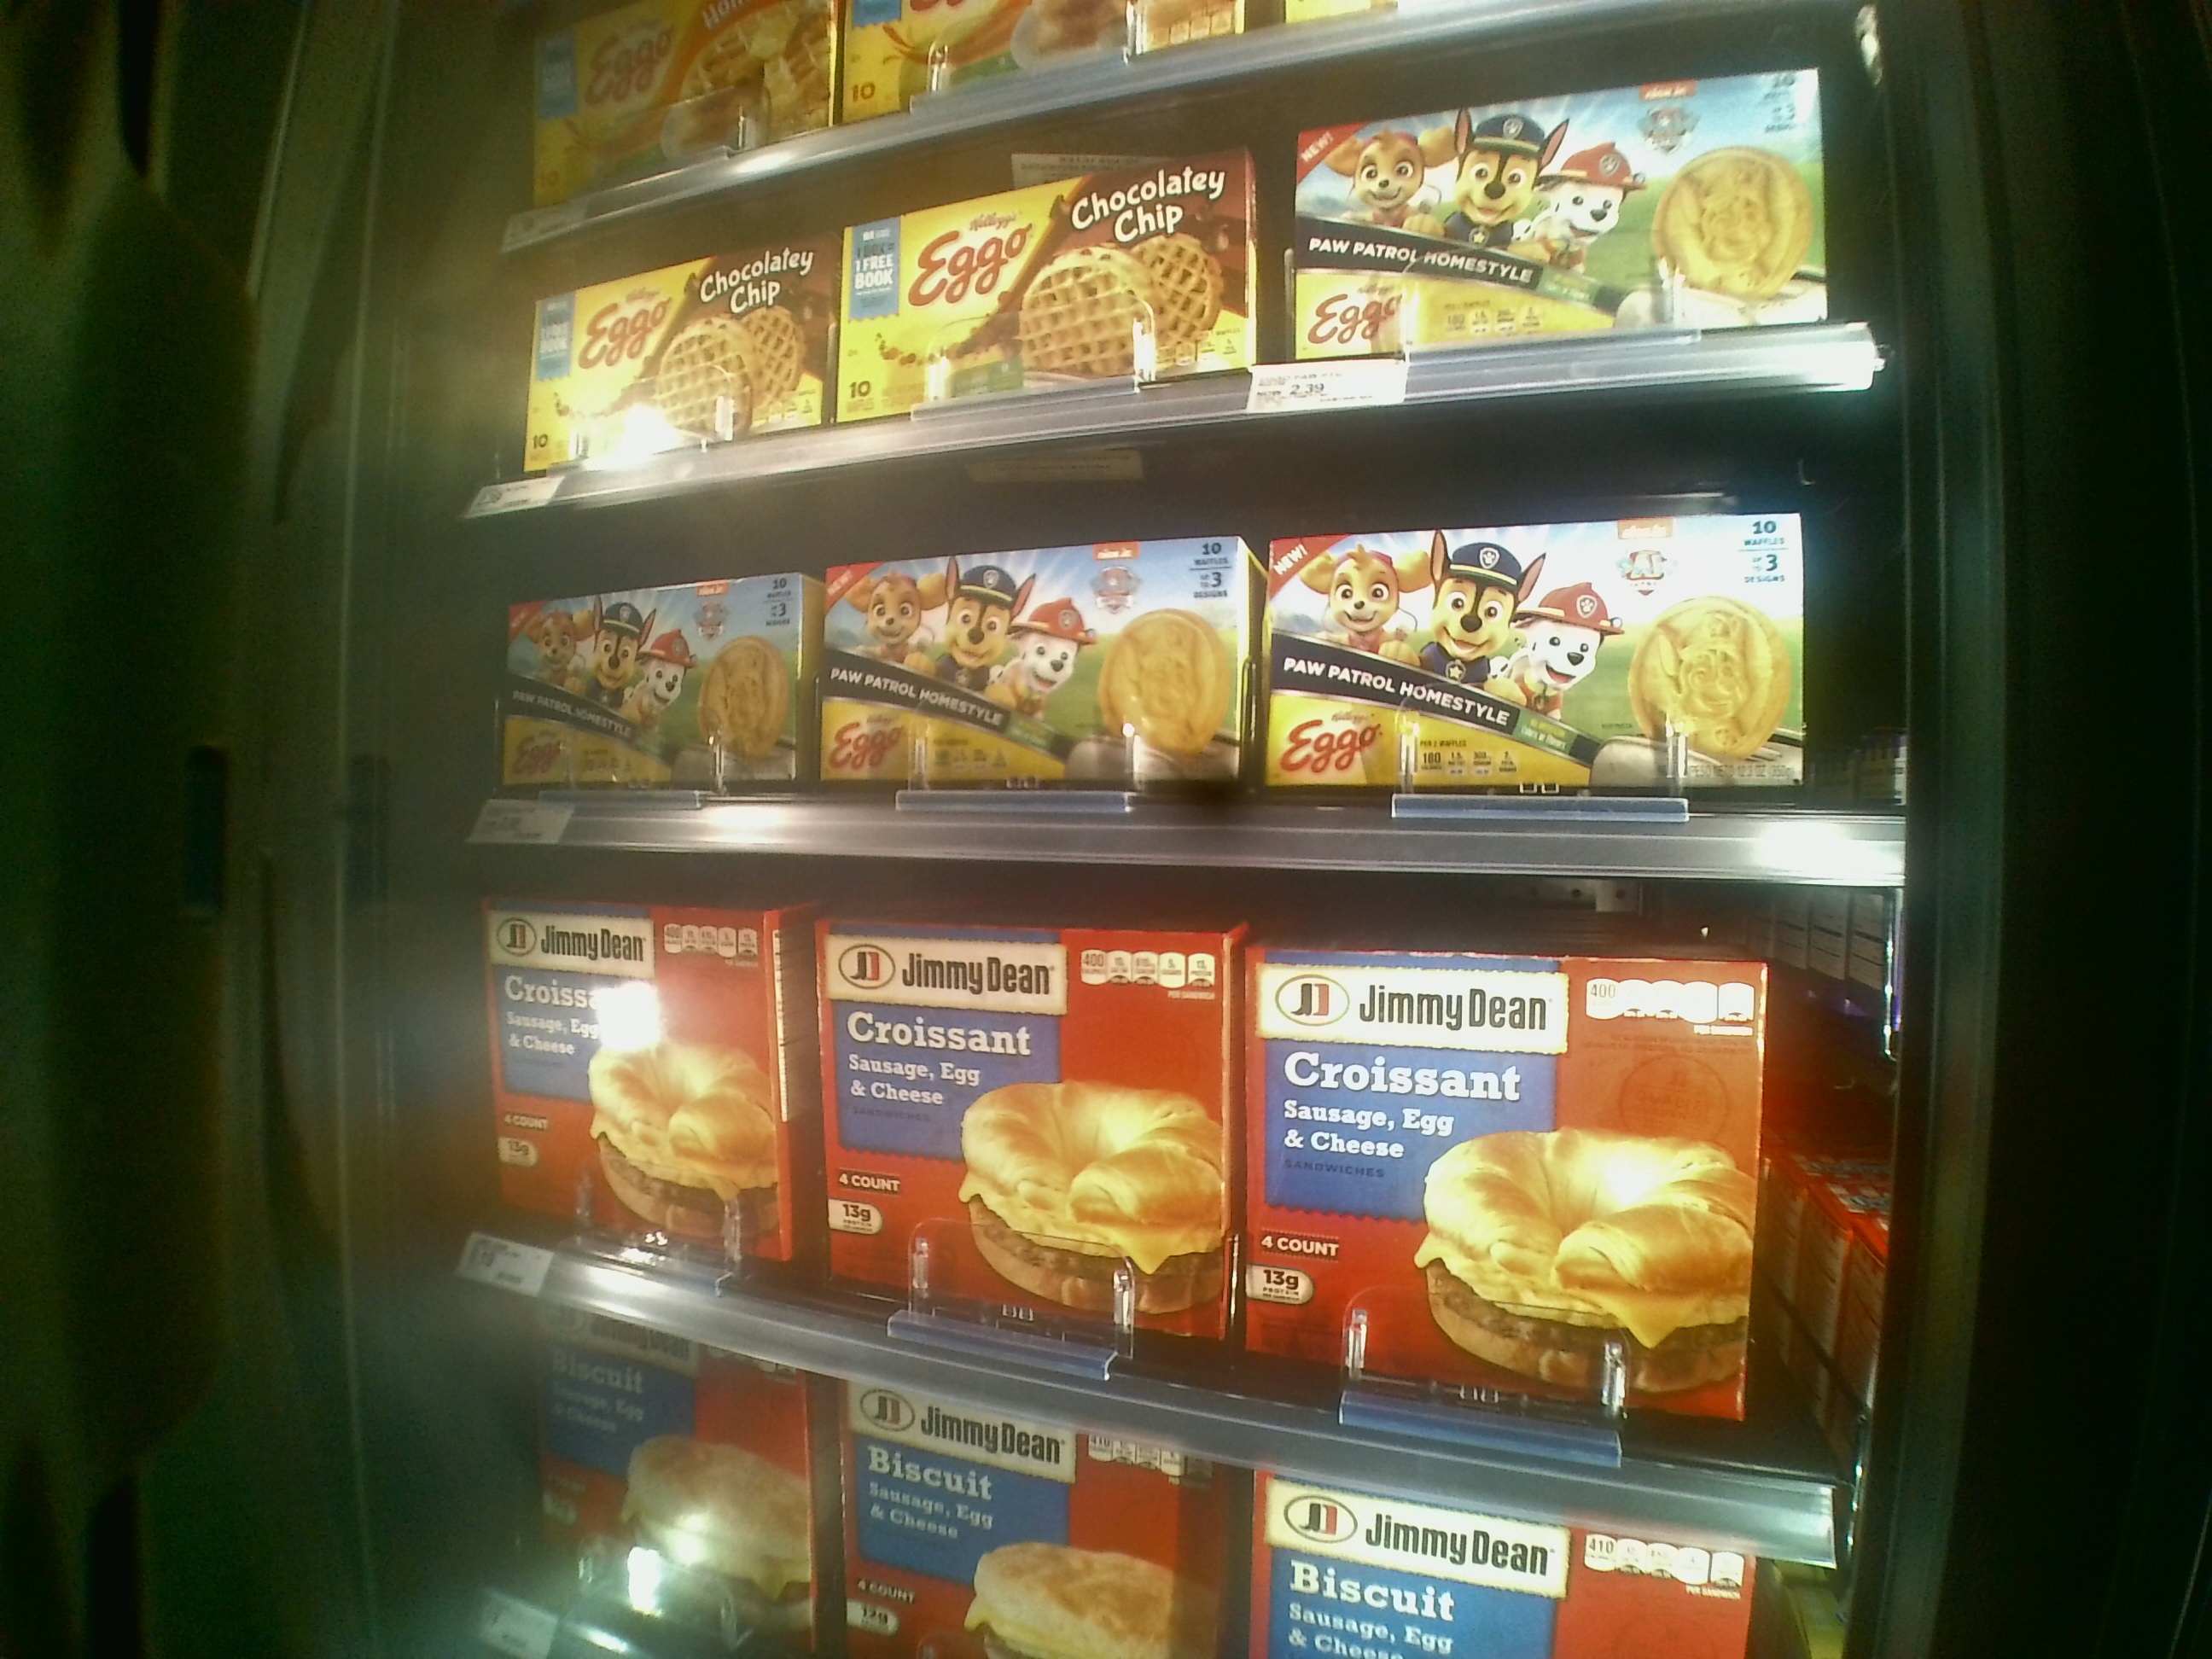shelf: (462, 823, 1872, 1565), (465, 397, 1905, 889)
